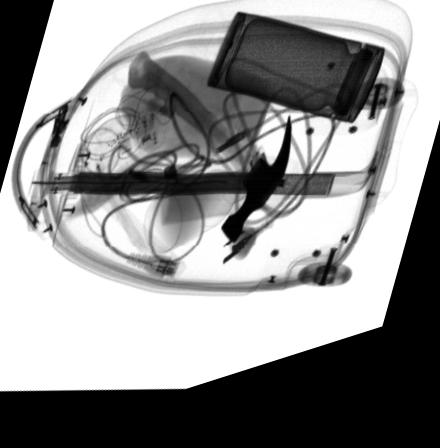Hammer: (127, 57, 293, 258)
